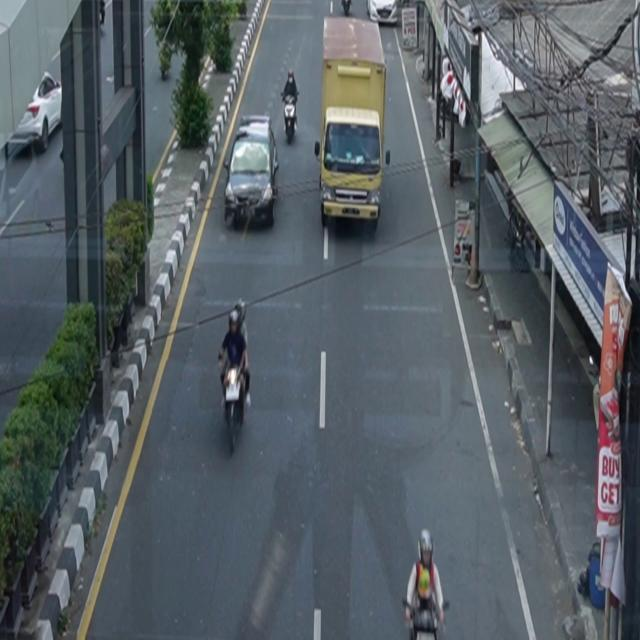truck: (315, 15, 391, 231)
